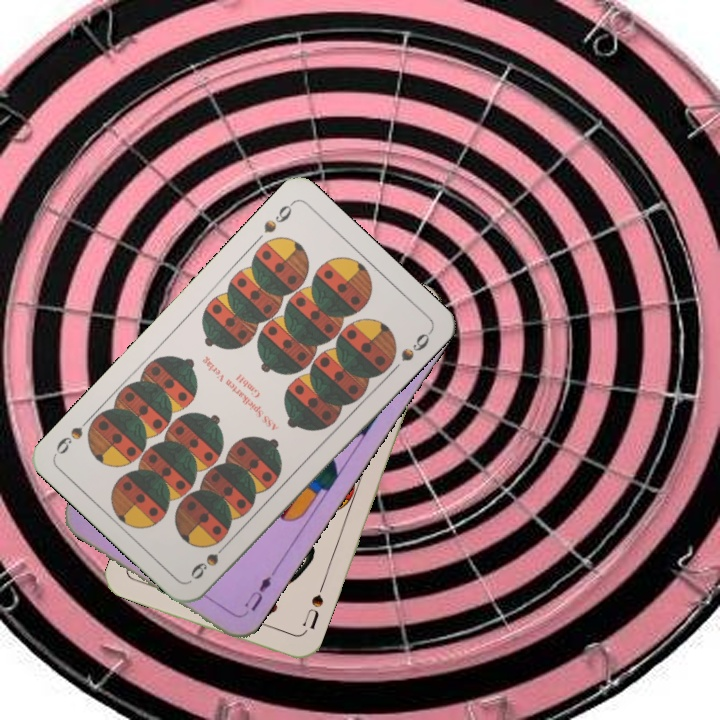EU: (239, 572, 274, 618)
S9: (186, 536, 233, 583), (259, 198, 297, 236)
SU: (298, 590, 326, 632)
